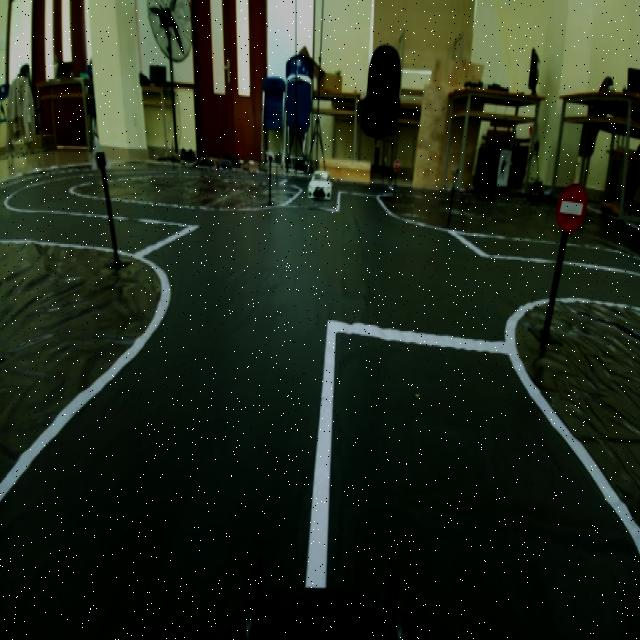no_entry: (556, 176, 588, 239)
